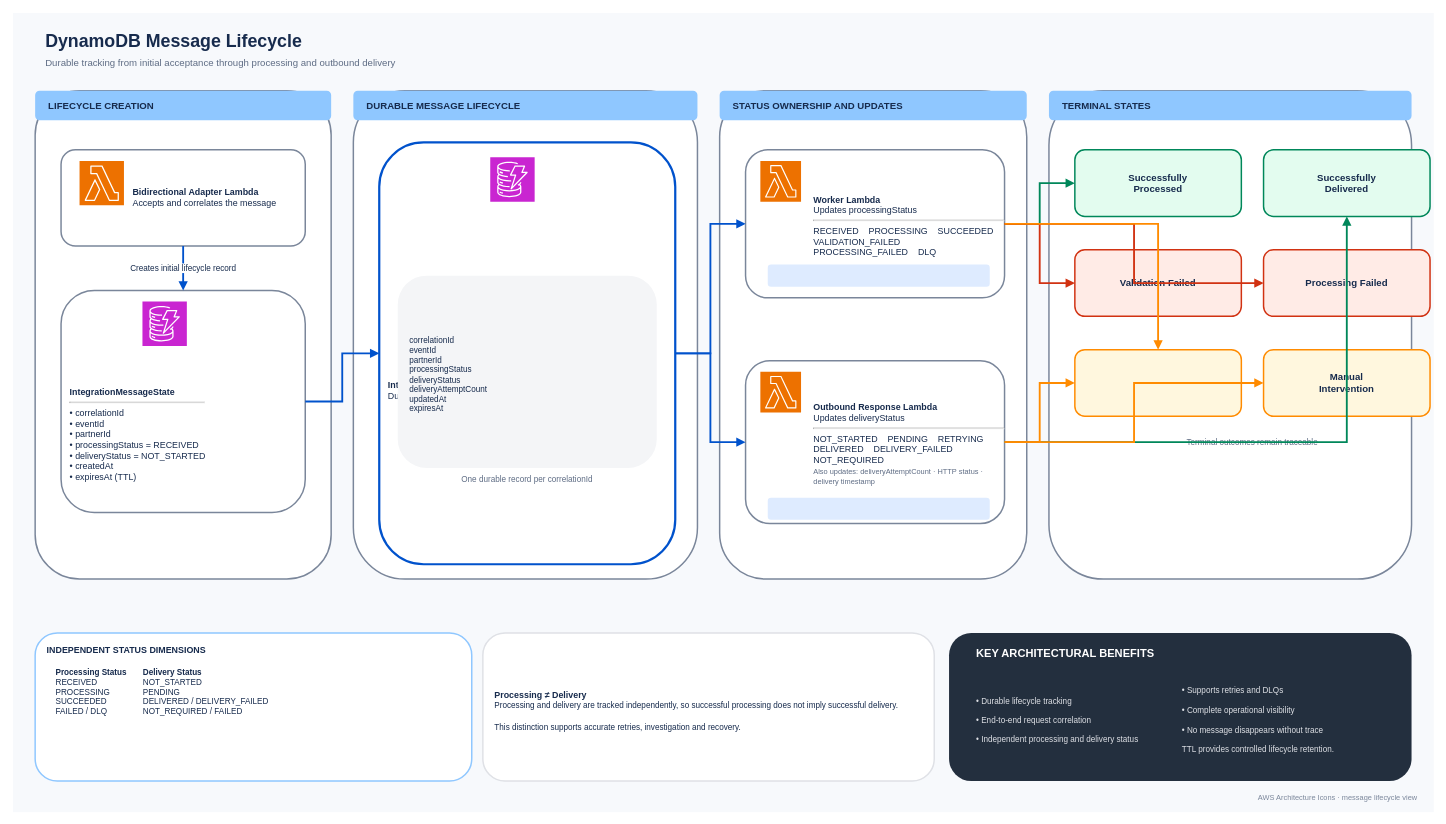
The diagram is 1446 pixels wide and 824 high, and some of its shapes have lost their labels. The centre of each missing label's shape, as x and y in pixels:
"Dead Letter Queue" belongs at pixel 1158 383.
"Outbound Lambda owns deliveryStatus" belongs at pixel 878 508.
"Worker owns processingStatus" belongs at pixel 878 275.
